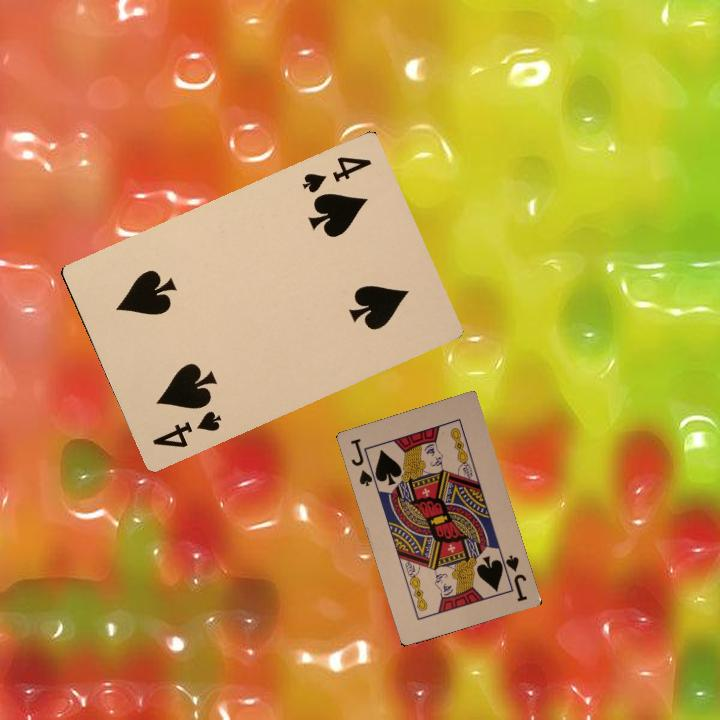4s: (148, 406, 224, 450), (298, 152, 374, 196)
Js: (497, 551, 531, 604), (346, 434, 379, 488)
